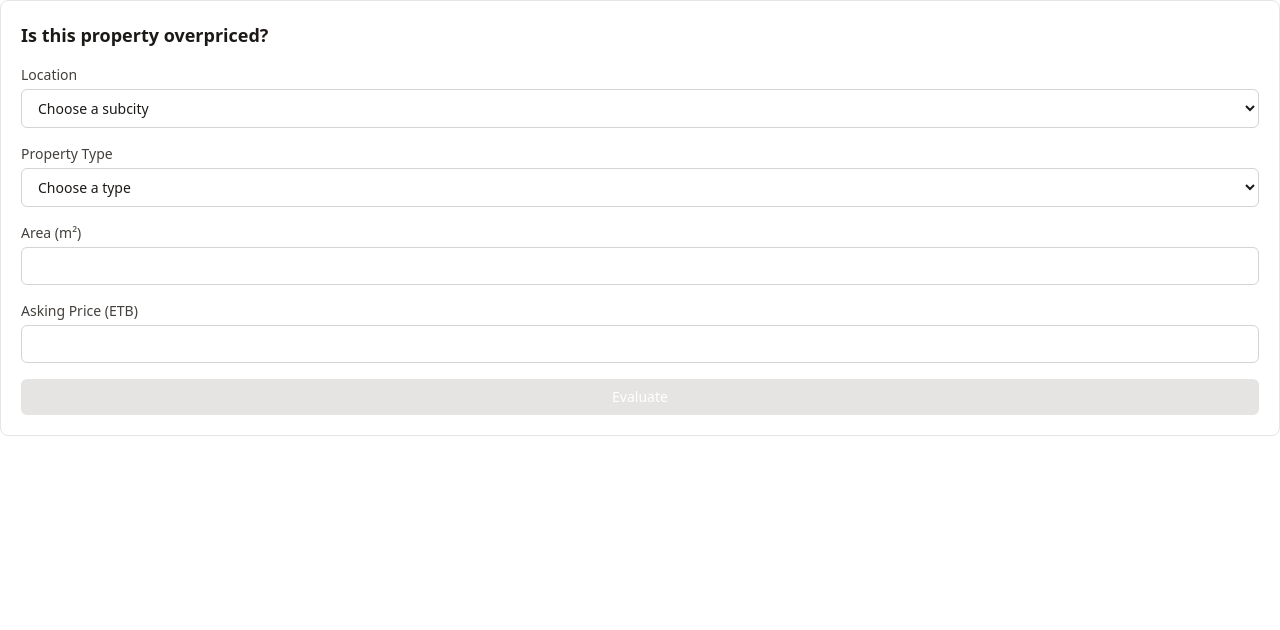
Test case: OverpricedEvaluatorWidget › renders the FAIRLY_PRICED state
Select "Bole" in the dropdown labelled "Location" at [640, 108], box [21,89,1259,128]
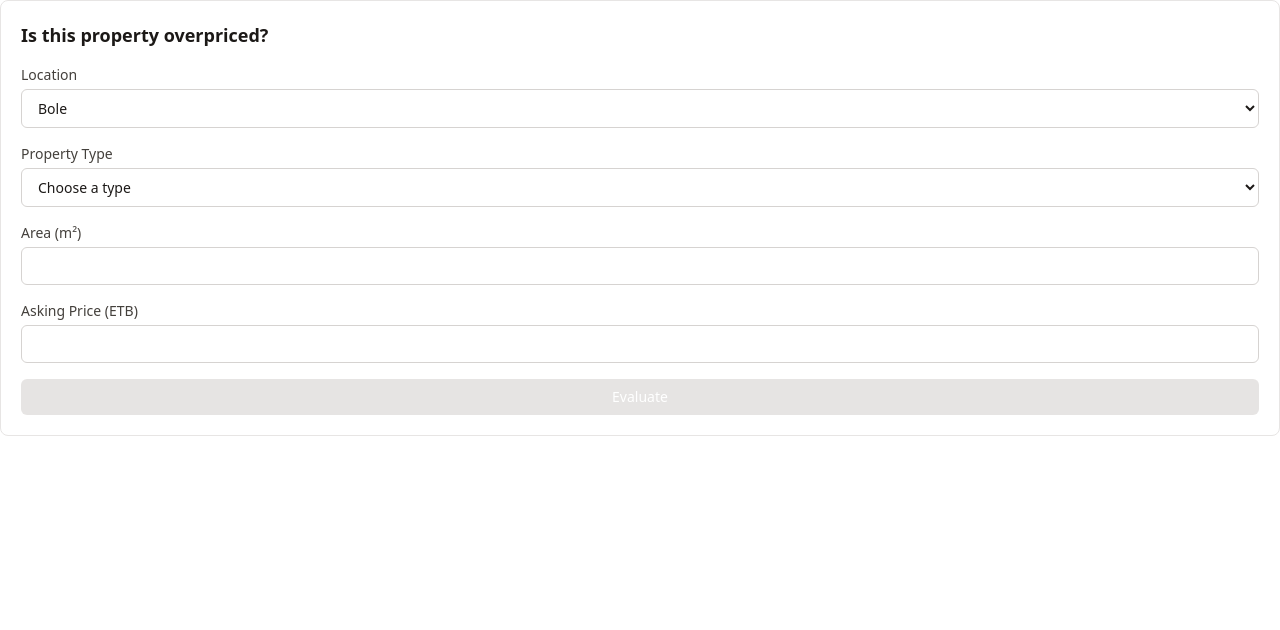
Select "Apartment" in the dropdown labelled "Property Type" at [640, 188], box [21,168,1259,207]
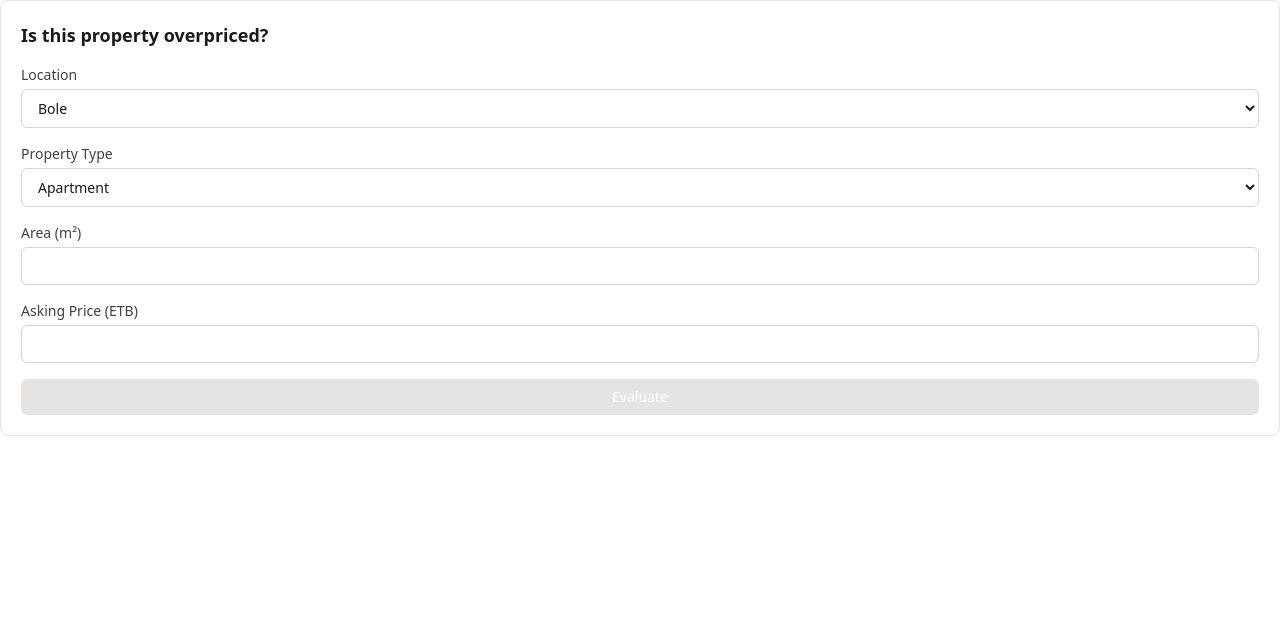
Type "100" into the number field labelled "Area (m²)" at [640, 266], box [21,247,1259,285]
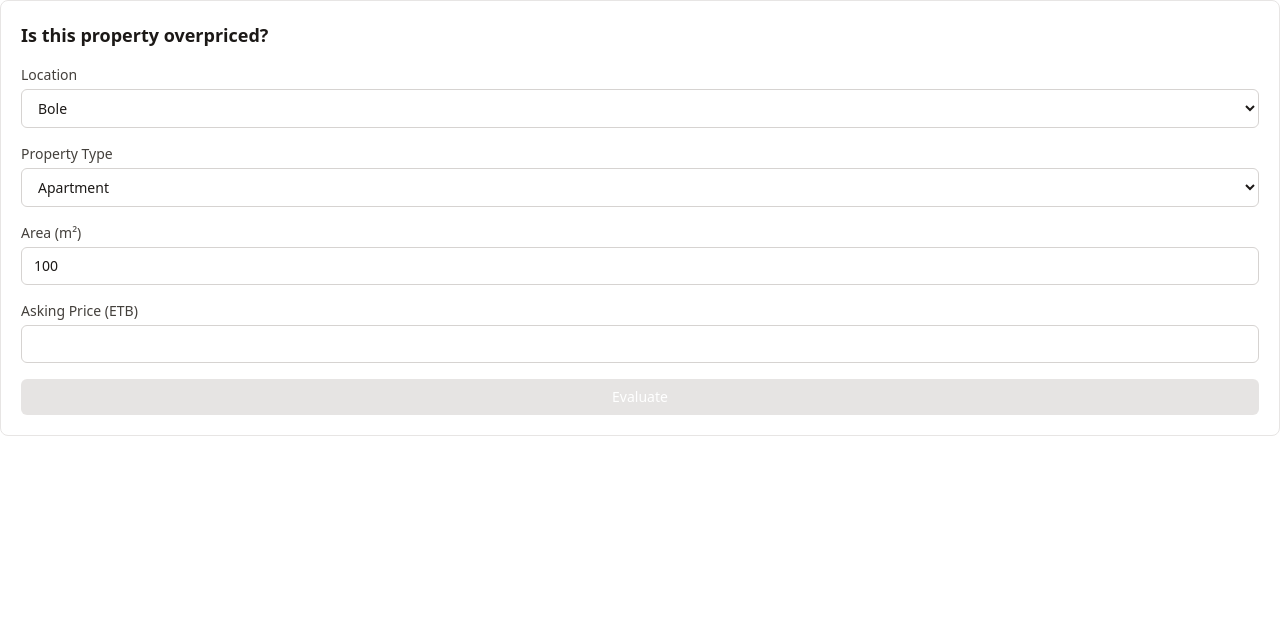
Type "5000000" into the number field labelled "Asking Price (ETB)" at [640, 344], box [21,325,1259,363]
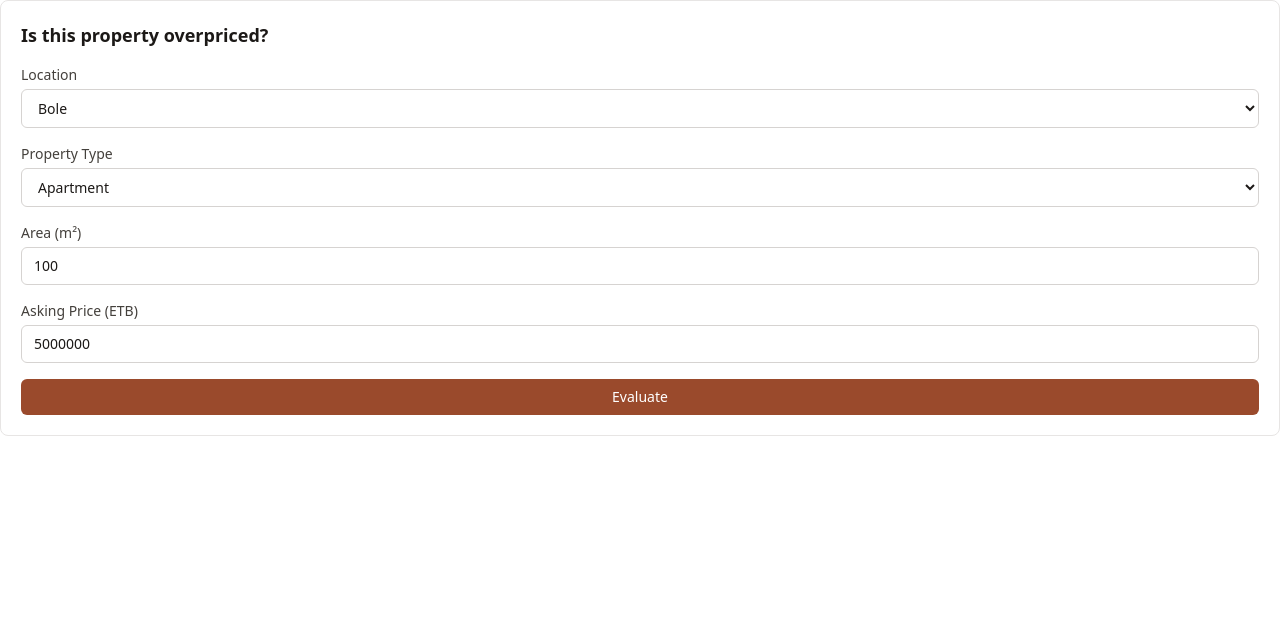
Click the button "Evaluate" at [640, 397], box [21,379,1259,415]
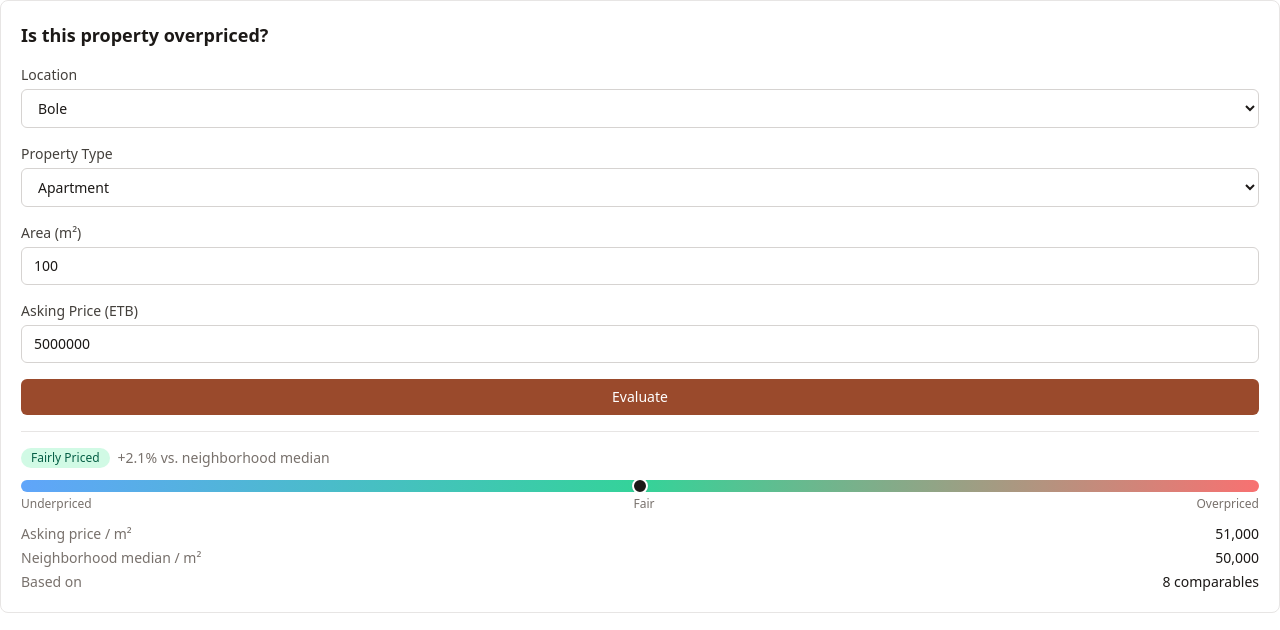
Check: the text "Fairly Priced" is shown, box [21,448,110,468]
